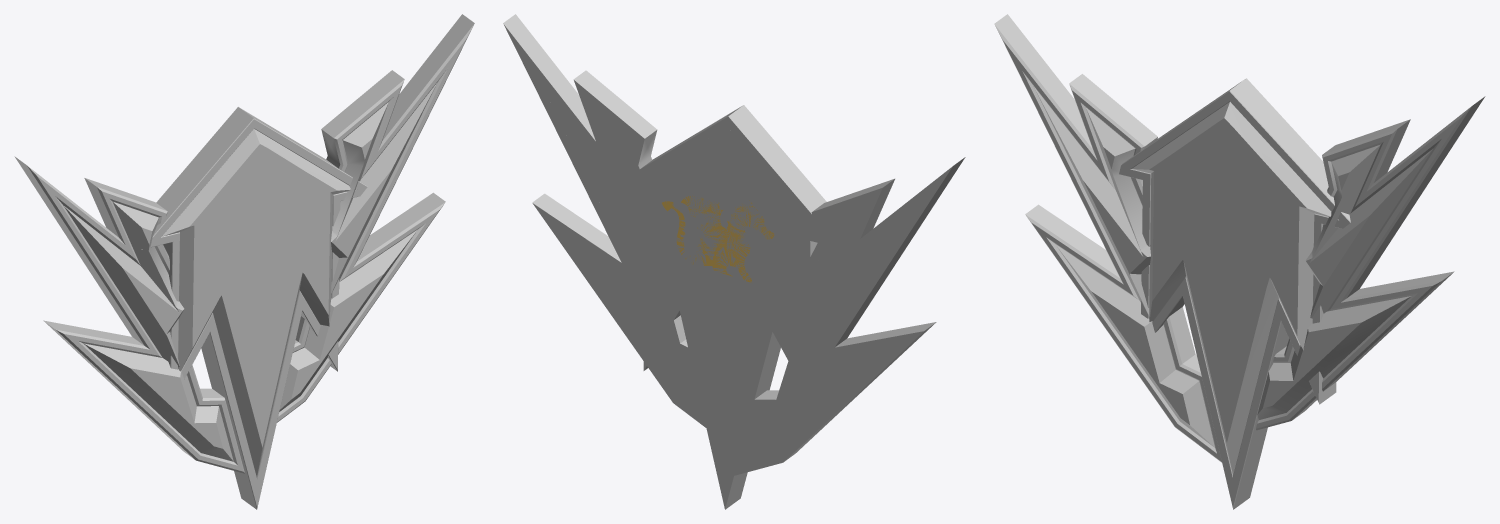
Rendered from SuperDragone_Asset_Boost.fbx.
3 views of the same model, side by side, from view 1: azimuth 30°, elevation 25°; view 2: azimuth 150°, elevation 25°; view 3: azimuth 330°, elevation 25° (orthographic). The views are drawn at different scales.
Parts seen in each view (by area): view 1: Node #2, Node #4, Node #7, Node #3, Node #5, Node #6; view 2: Node #2, Node #7, Node #3, Node #4, Node #6, Node #5, Node #0, Node #1; view 3: Node #2, Node #5, Node #4, Node #6, Node #3, Node #7.
Part boxes in pixels (<box>): Node #2: <box>162,129,350,477</box>; Node #4: <box>63,201,233,461</box>; Node #7: <box>277,14,474,422</box>; Node #3: <box>141,107,367,509</box>; Node #5: <box>14,156,244,473</box>; Node #6: <box>279,82,437,411</box>; Node #2: <box>626,127,820,476</box>; Node #7: <box>503,14,717,430</box>; Node #3: <box>606,105,840,509</box>; Node #4: <box>745,202,916,463</box>; Node #6: <box>540,82,709,421</box>; Node #5: <box>734,157,965,475</box>; Node #0: <box>662,196,774,282</box>; Node #1: <box>657,192,778,287</box>; Node #2: <box>1132,102,1331,474</box>; Node #5: <box>994,14,1221,462</box>; Node #4: <box>1033,85,1214,447</box>; Node #6: <box>1257,144,1432,419</box>; Node #3: <box>1110,78,1350,509</box>; Node #7: <box>1256,96,1485,430</box>.
Bounding box in the file's own units: 0.0935 × 0.0858 × 0.00774.
1 material, 1 textured.
